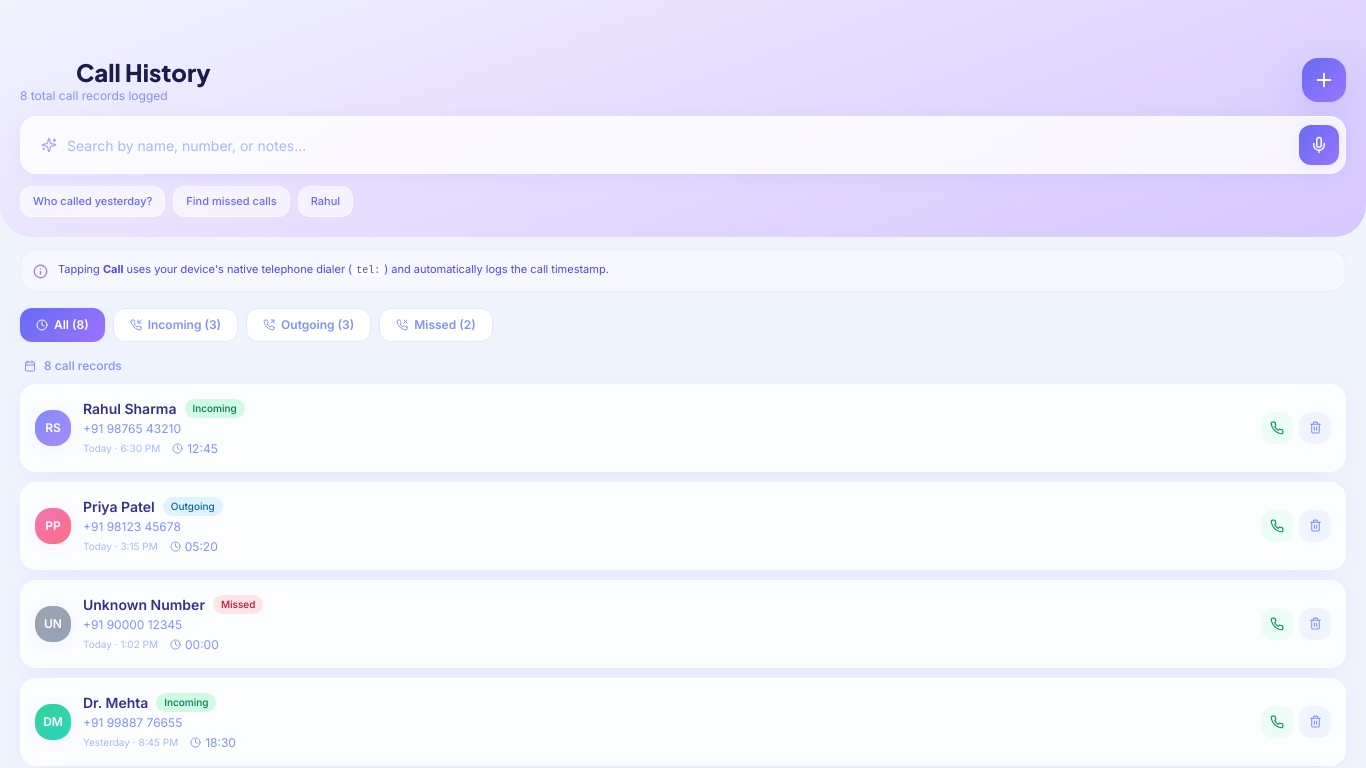
Test: CallsScreen › opens Log Call modal when + button is clicked
The image size is (1366, 768).
Click the button named "Log call record" at (1324, 80), box [1302,58,1346,102]
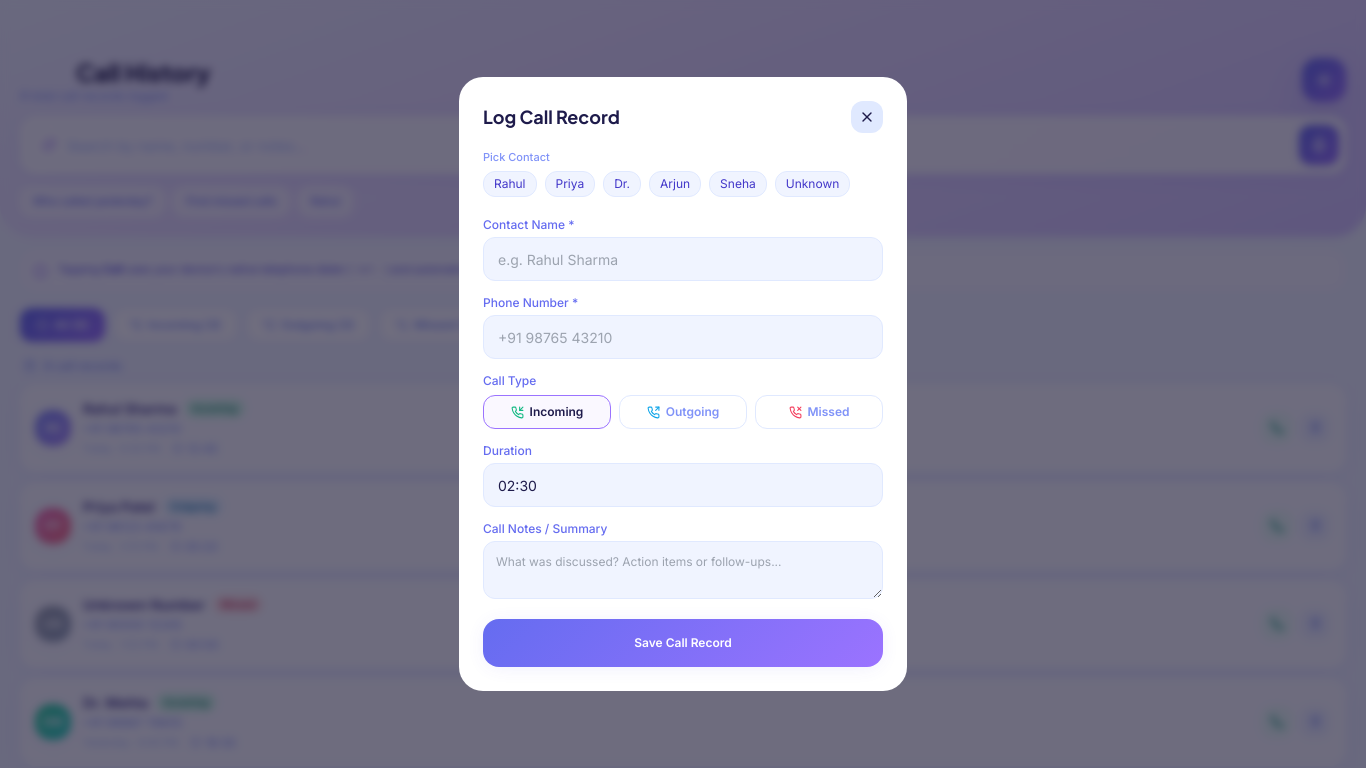
Result: the heading "Log Call Record" is shown at [483,103,620,131]
